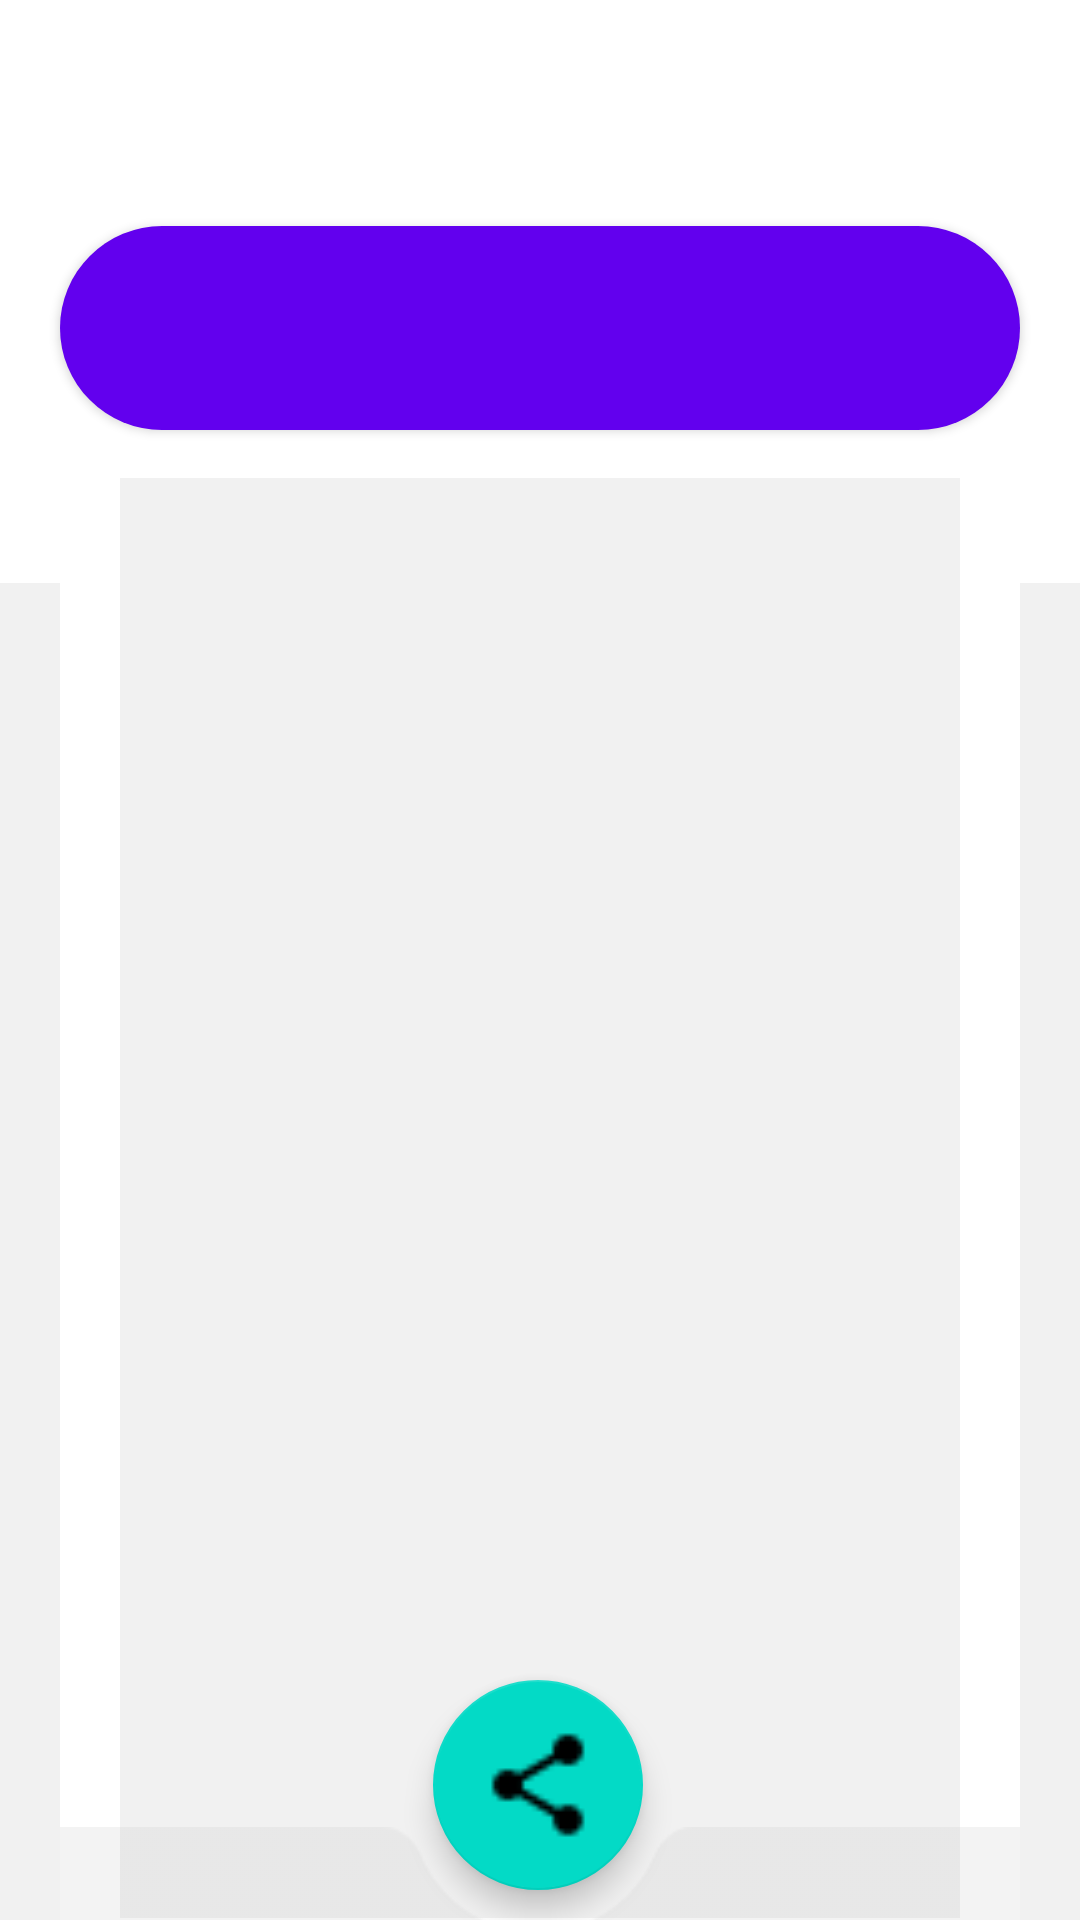

Icon bounding boxes for this 1080x1920 phone screenshot, format (x1, y1, x2, y2):
Share image button: (433, 1680, 643, 1890)
